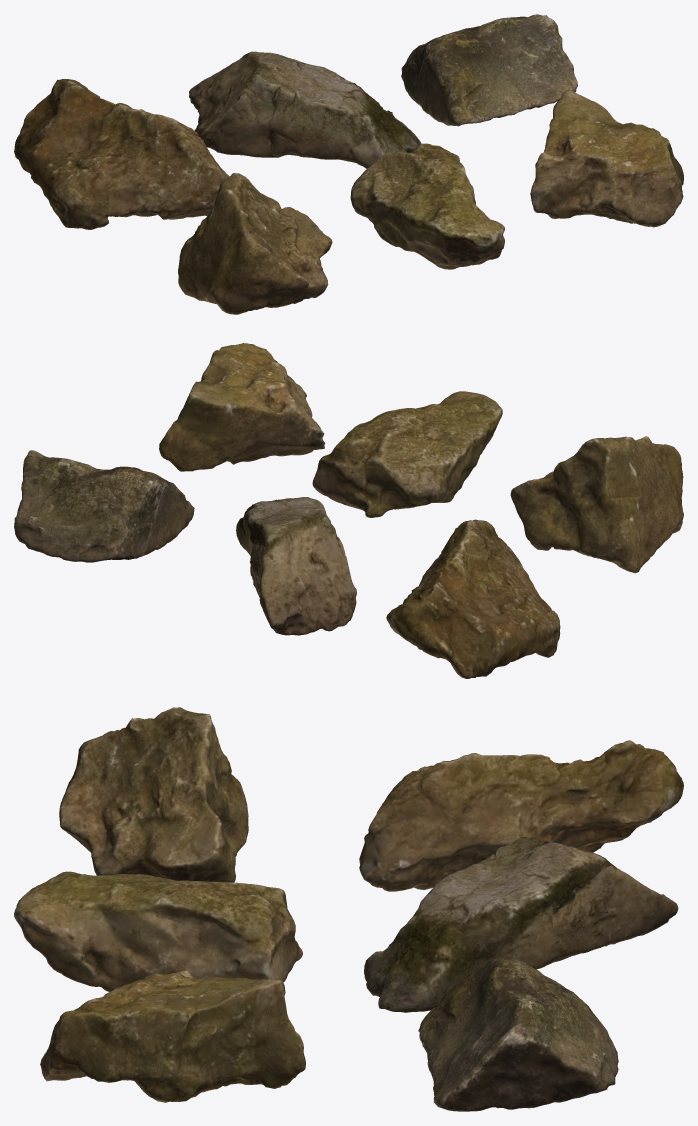
File: court-rocks.glb
3 renders of one model, top to bottom at view 1: azimuth 30°, elevation 25°; view 2: azimuth 150°, elevation 25°; view 3: azimuth 270°, elevation 25°, orthographic. The views are drawn at different scales.
Visible parts, largest first — view 1: rock_moss_set_01_rock01, rock_moss_set_01_rock02, rock_moss_set_01_rock06, rock_moss_set_01_rock04, rock_moss_set_01_rock03, rock_moss_set_01_rock05; view 2: rock_moss_set_01_rock04, rock_moss_set_01_rock01, rock_moss_set_01_rock05, rock_moss_set_01_rock03, rock_moss_set_01_rock06, rock_moss_set_01_rock02; view 3: rock_moss_set_01_rock01, rock_moss_set_01_rock02, rock_moss_set_01_rock05, rock_moss_set_01_rock04, rock_moss_set_01_rock06, rock_moss_set_01_rock03.
Part boxes in pixels (<box>): rock_moss_set_01_rock01: <box>14,79,229,229</box>; rock_moss_set_01_rock02: <box>189,51,421,168</box>; rock_moss_set_01_rock06: <box>530,89,683,227</box>; rock_moss_set_01_rock04: <box>178,173,332,314</box>; rock_moss_set_01_rock03: <box>401,14,577,126</box>; rock_moss_set_01_rock05: <box>350,143,504,269</box>; rock_moss_set_01_rock04: <box>510,436,683,573</box>; rock_moss_set_01_rock01: <box>386,519,560,678</box>; rock_moss_set_01_rock05: <box>312,391,502,517</box>; rock_moss_set_01_rock03: <box>14,450,194,562</box>; rock_moss_set_01_rock06: <box>159,343,325,471</box>; rock_moss_set_01_rock02: <box>236,497,356,635</box>; rock_moss_set_01_rock01: <box>359,740,683,891</box>; rock_moss_set_01_rock02: <box>364,836,678,1012</box>; rock_moss_set_01_rock05: <box>14,871,302,991</box>; rock_moss_set_01_rock04: <box>59,707,248,882</box>; rock_moss_set_01_rock06: <box>40,970,305,1102</box>; rock_moss_set_01_rock03: <box>418,956,618,1111</box>.
Bounding box in the file's own units: 8 × 1.77 × 6.95.
1 material, 1 textured.
